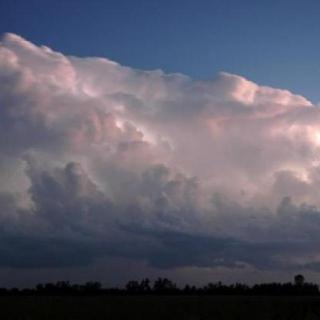Cumulonimbus: (0, 10, 320, 284)
